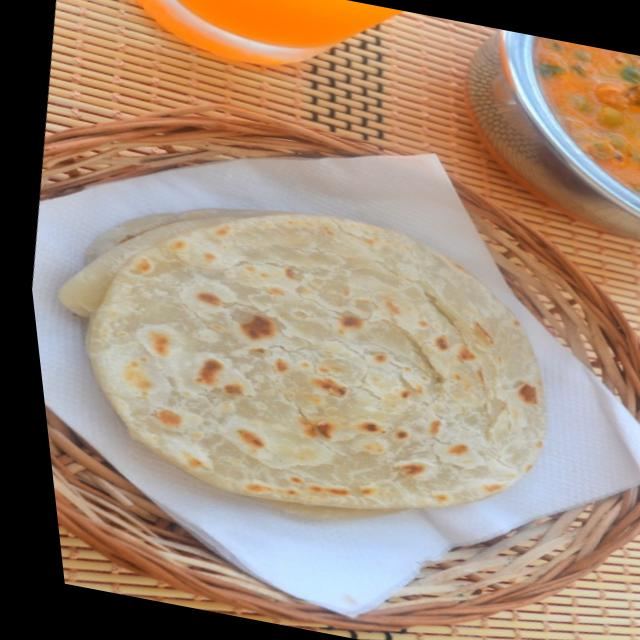CURRY: (537, 35, 640, 196)
PAROTTA: (52, 207, 551, 512)
